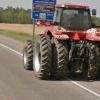Tractor: (17, 3, 100, 81)
